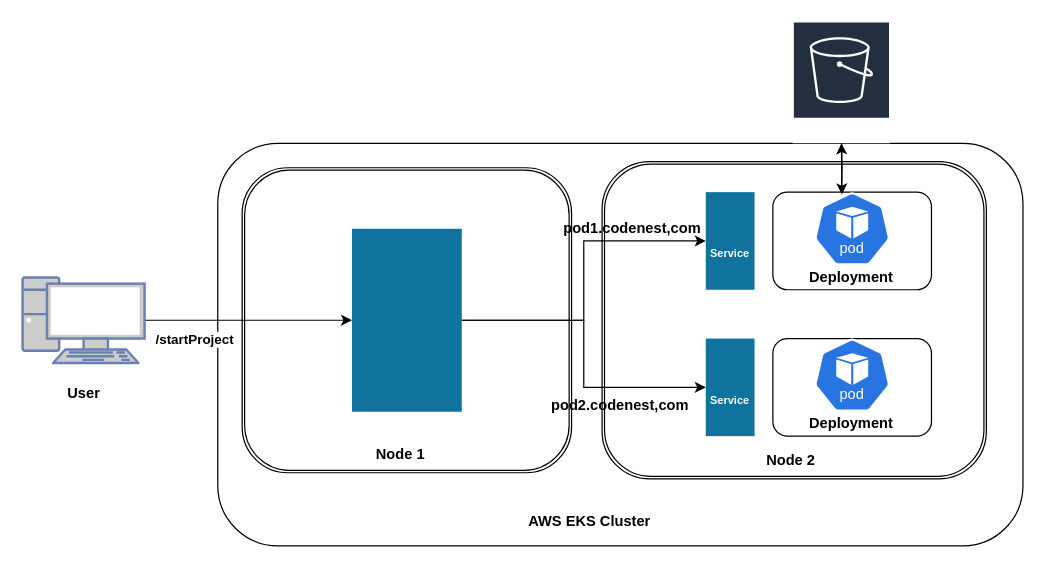
This 1044x567 diagram has some shape labels left out. Here are the shapes that lost their labels. From the top down, the centre of each, then its label:
At pixel 840 81: "Amazon S3".
At pixel 406 319: "Ingress Controller".
